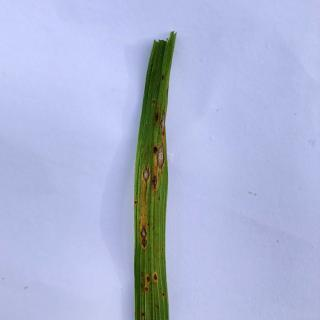Blast: (155, 142, 165, 172), (158, 110, 165, 136), (142, 164, 150, 186), (140, 226, 147, 248), (152, 174, 158, 191), (144, 274, 152, 285), (152, 272, 159, 282), (143, 284, 150, 294), (140, 311, 146, 318), (151, 98, 156, 106), (133, 199, 138, 206), (161, 291, 165, 298)
